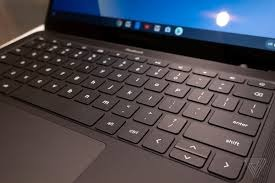keyboard: (0, 41, 271, 181)
